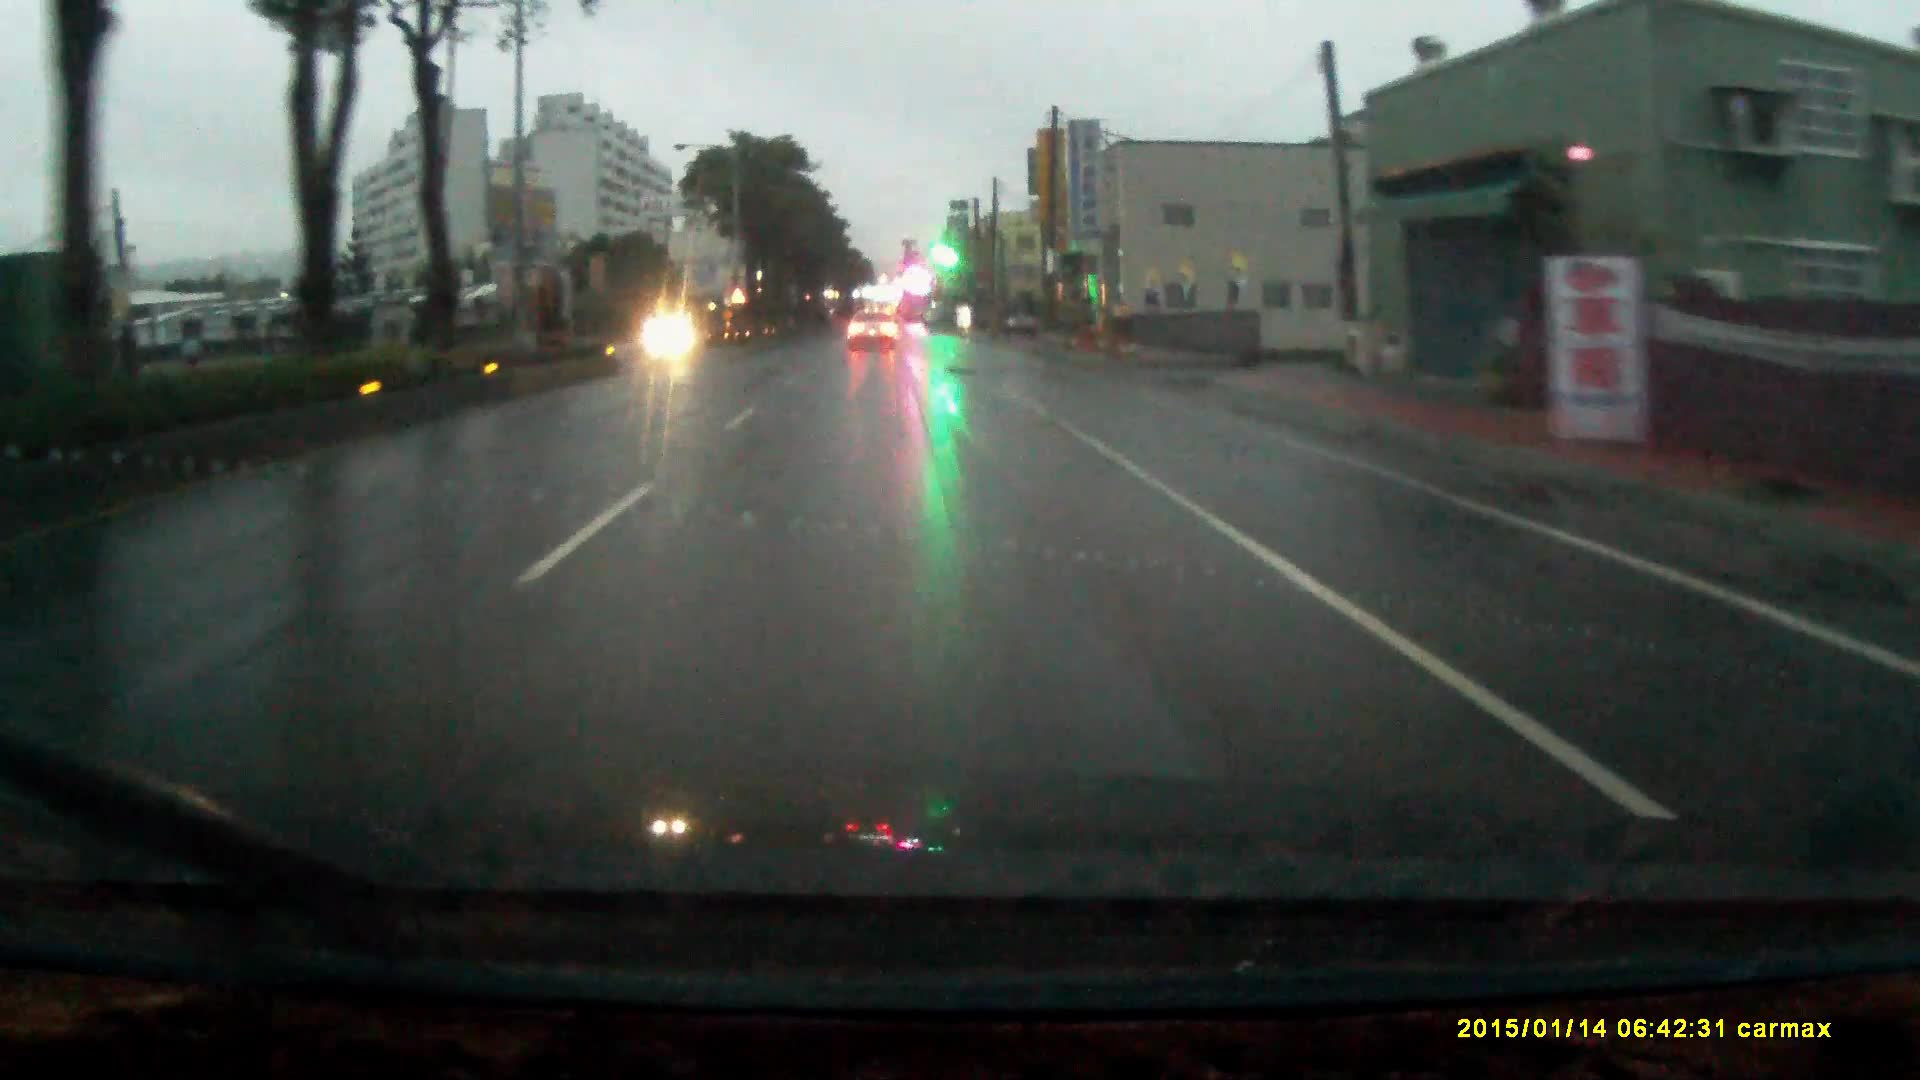vehicle: (847, 313, 901, 355), (1007, 284, 1043, 324)
